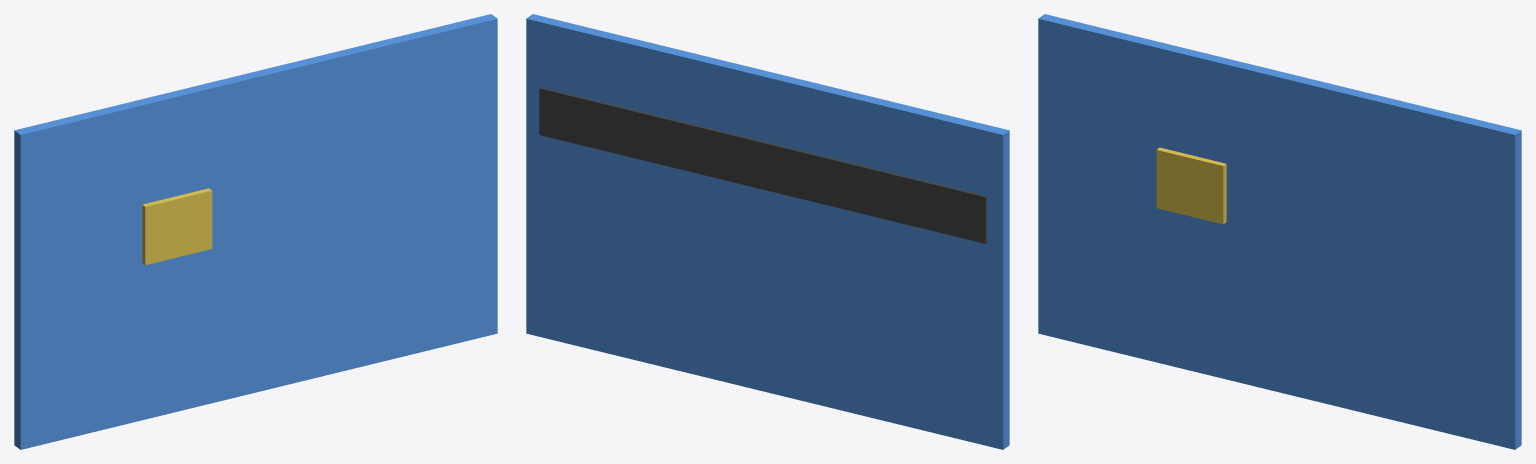
The model's file is card.glb.
The picture shows the model from 3 angles, left to right: view 1: azimuth 30°, elevation 25°; view 2: azimuth 150°, elevation 25°; view 3: azimuth 330°, elevation 25°; orthographic projection.
Visible parts, largest first — view 1: cardBody, cardChip; view 2: cardBody, cardMagStripe; view 3: cardBody, cardChip.
Boxes of the visible parts, x1,y1,x2,y2 form: cardBody: [14, 14, 497, 449]; cardChip: [142, 188, 212, 264]; cardBody: [526, 14, 1009, 449]; cardMagStripe: [539, 87, 986, 243]; cardBody: [1038, 14, 1521, 449]; cardChip: [1156, 147, 1226, 224].
Bounding box in the file's own units: 0.0856 × 0.054 × 0.00375.
